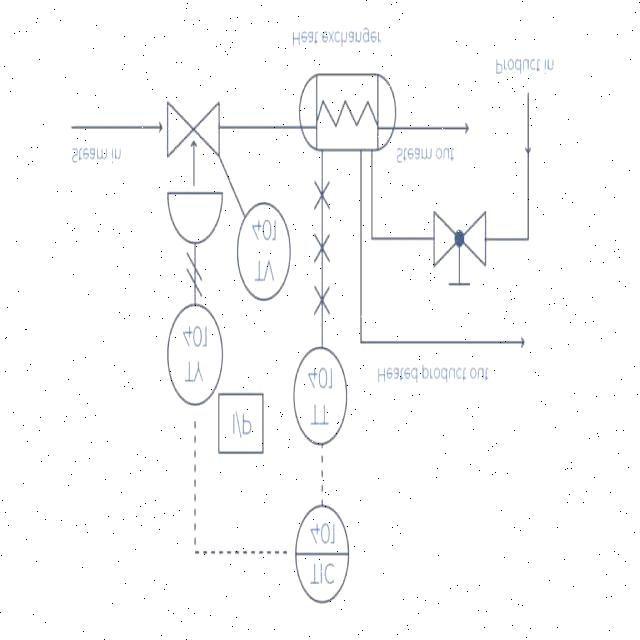Fail Closed Safe Position: (148, 99, 228, 252)
Hand Operated Globe Valve: (410, 193, 502, 304)
